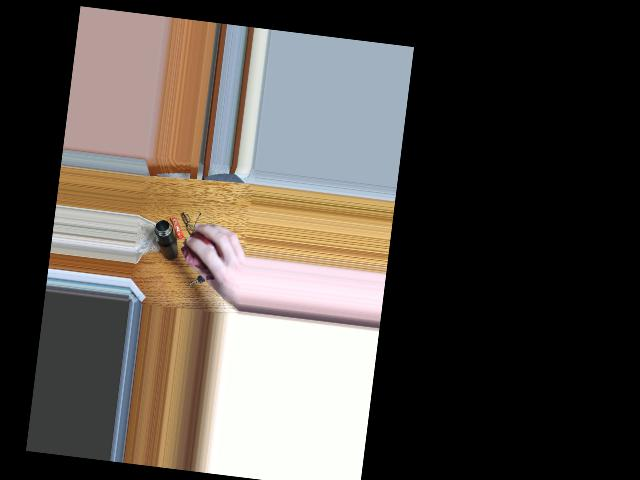onion: (184, 227, 221, 274)
